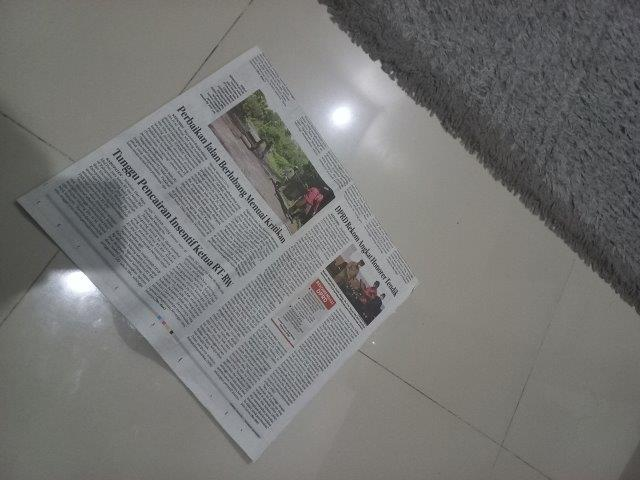kertas: (18, 46, 418, 463)
